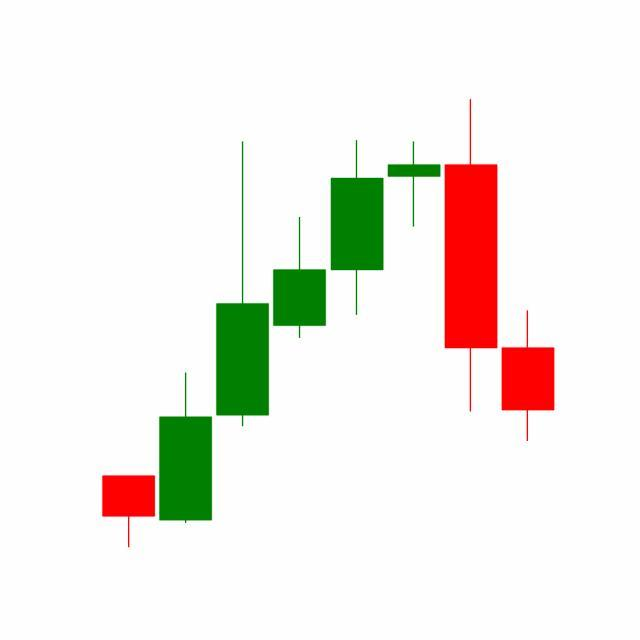Evening Doji Star: (328, 100, 500, 417)
